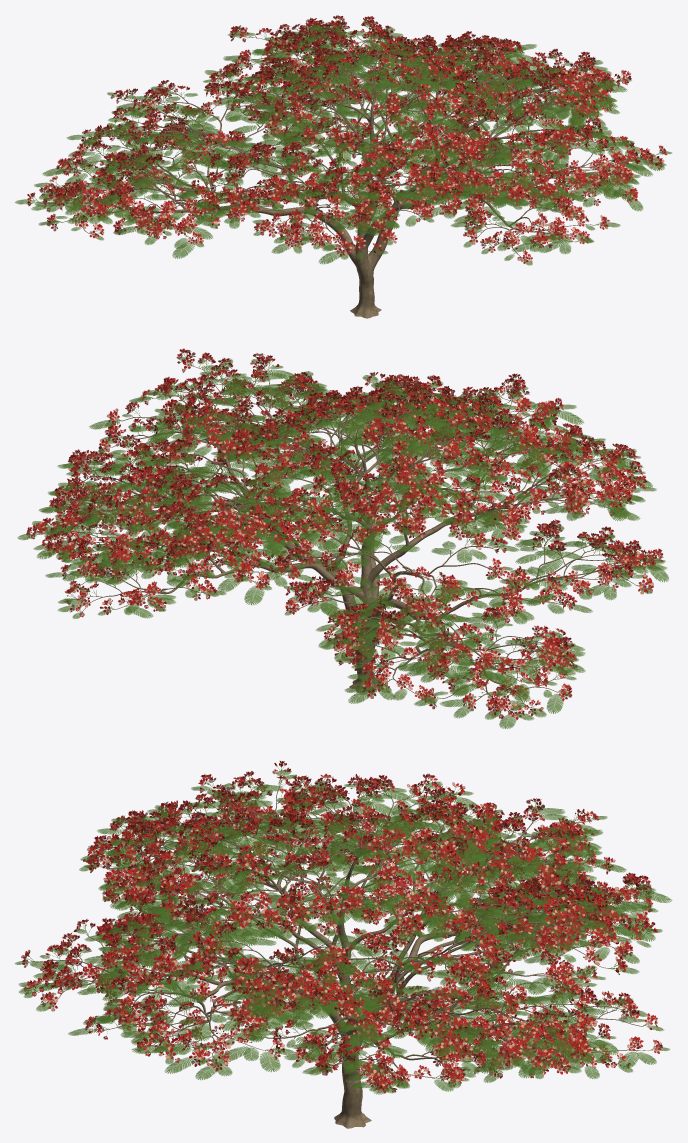
Rendered from tree-poinciana.glb.
3 renders of one model, top to bottom at view 1: azimuth 30°, elevation 25°; view 2: azimuth 150°, elevation 25°; view 3: azimuth 270°, elevation 25°, orthographic. The views are drawn at different scales.
Visible parts, largest first — view 1: Delonix_regia_HD_Delonix leaf 01_0, Delonix_regia_HD_Delonix flower 01_0, Delonix_regia_HD_Delonix flower 02_0, Delonix_regia_HD_Delonix trunk_0, Delonix_regia_HD_Delonix stalk_0 (×3), Delonix_regia_HD_Delonix flower bud 04_0, Delonix_regia_HD_Delonix twig_0; view 2: Delonix_regia_HD_Delonix leaf 01_0, Delonix_regia_HD_Delonix flower 01_0, Delonix_regia_HD_Delonix flower 02_0, Delonix_regia_HD_Delonix trunk_0, Delonix_regia_HD_Delonix stalk_0 (×3), Delonix_regia_HD_Delonix flower bud 04_0, Delonix_regia_HD_Delonix twig_0; view 3: Delonix_regia_HD_Delonix leaf 01_0, Delonix_regia_HD_Delonix flower 01_0, Delonix_regia_HD_Delonix flower 02_0, Delonix_regia_HD_Delonix trunk_0, Delonix_regia_HD_Delonix stalk_0 (×3), Delonix_regia_HD_Delonix flower bud 04_0, Delonix_regia_HD_Delonix twig_0, Delonix_regia_HD_Delonix flower bud 03_0.
Boxes of the visible parts, x1,y1,x2,y2 form: Delonix_regia_HD_Delonix leaf 01_0: (15,20,671,265); Delonix_regia_HD_Delonix flower 01_0: (27,15,667,263); Delonix_regia_HD_Delonix flower 02_0: (27,15,667,260); Delonix_regia_HD_Delonix trunk_0: (41,30,655,318); Delonix_regia_HD_Delonix stalk_0 (×3): (31,19,662,251); Delonix_regia_HD_Delonix flower bud 04_0: (27,18,659,252); Delonix_regia_HD_Delonix twig_0: (37,30,658,258); Delonix_regia_HD_Delonix leaf 01_0: (17,357,668,728); Delonix_regia_HD_Delonix flower 01_0: (26,350,663,719); Delonix_regia_HD_Delonix flower 02_0: (27,348,661,718); Delonix_regia_HD_Delonix trunk_0: (40,365,648,712); Delonix_regia_HD_Delonix stalk_0 (×3): (31,353,658,713); Delonix_regia_HD_Delonix flower bud 04_0: (34,357,651,705); Delonix_regia_HD_Delonix twig_0: (37,363,652,712); Delonix_regia_HD_Delonix leaf 01_0: (14,769,672,1094); Delonix_regia_HD_Delonix flower 01_0: (21,773,661,1093); Delonix_regia_HD_Delonix flower 02_0: (25,761,662,1092); Delonix_regia_HD_Delonix trunk_0: (38,779,648,1128); Delonix_regia_HD_Delonix stalk_0 (×3): (26,767,655,1087); Delonix_regia_HD_Delonix flower bud 04_0: (45,763,656,1088); Delonix_regia_HD_Delonix twig_0: (35,780,652,1081); Delonix_regia_HD_Delonix flower bud 03_0: (34,783,642,1077).
Bounding box in the file's own units: 9.04 × 4.26 × 8.12.
Materials: 9 (8 with a texture image).
